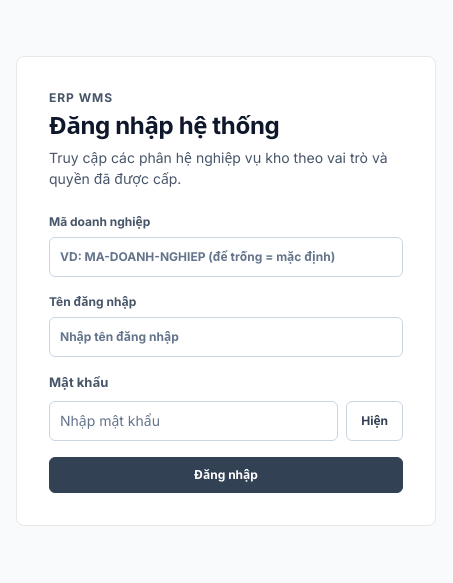
Scenario: liên kết nhãn đăng nhập tiếng Việt và không hiển thị lỗi kỹ thuật
Type "qa-user" into the field labelled "Tên đăng nhập" at coordinates (226, 337), box [49,317,403,357]
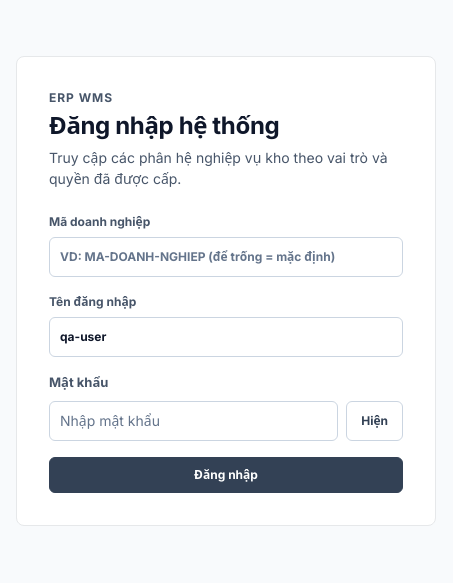
Type "QA_TEST_INPUT_ONLY" into the password field labelled "Mật khẩu" at coordinates (194, 421), box [49,401,338,441]
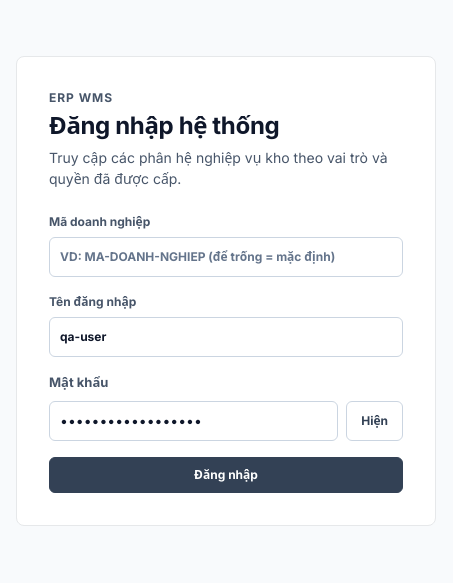
Submit the form "đăng nhập", box [49,213,403,493]
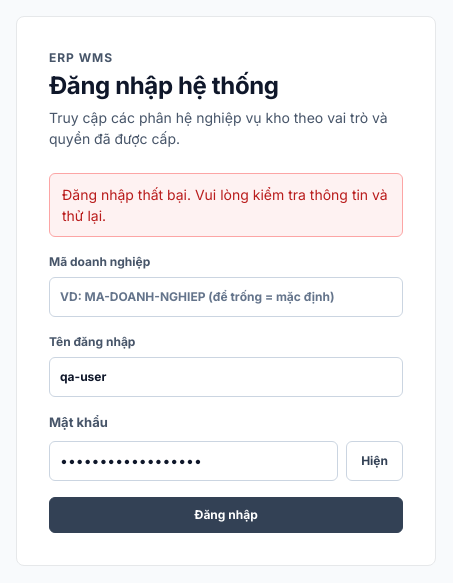
Result: the message reads "Đăng nhập thất bại. Vui lòng kiểm tra thông tin và thử lại." at [62,186,388,224]
